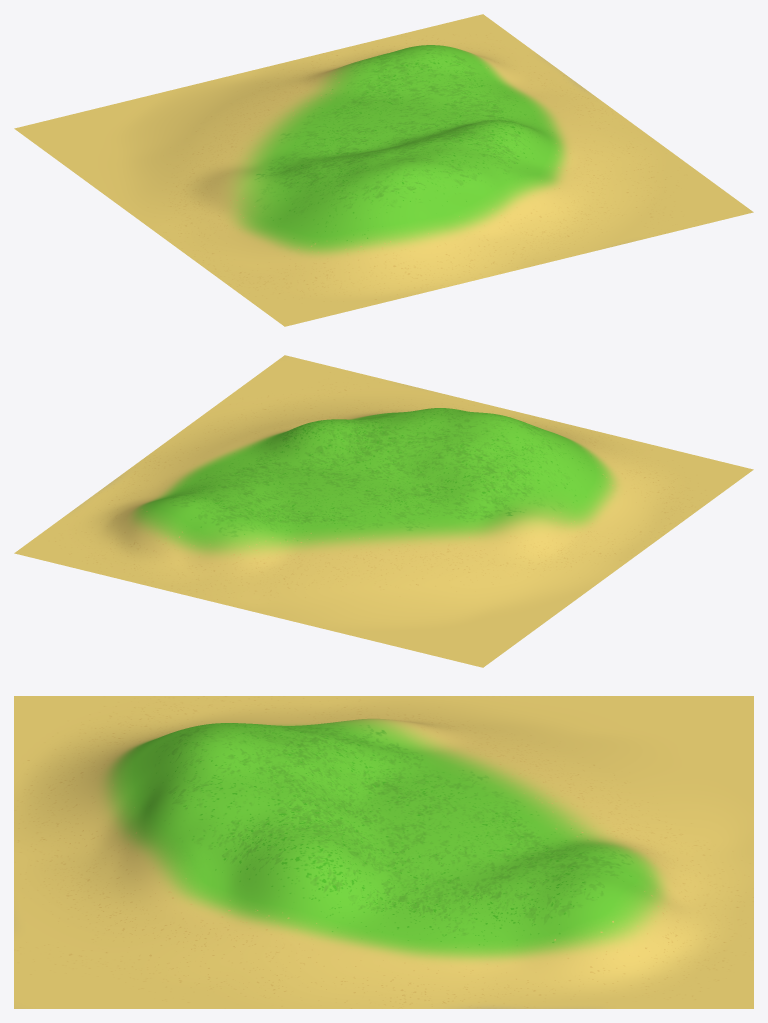
The model's file is Island.obj.
3 views of the same model, one above another, from view 1: azimuth 30°, elevation 25°; view 2: azimuth 150°, elevation 25°; view 3: azimuth 270°, elevation 25° (orthographic). The views are drawn at different scales.
Visible parts, largest first — view 1: Grid_Grid.001; view 2: Grid_Grid.001; view 3: Grid_Grid.001.
Boxes of the visible parts, x1,y1,x2,y2 form: Grid_Grid.001: (14, 14, 753, 326); Grid_Grid.001: (14, 355, 753, 667); Grid_Grid.001: (14, 696, 753, 1008).
Bounding box in the file's own units: 100 × 11.97 × 100.
Materials: 1 (1 with a texture image).
